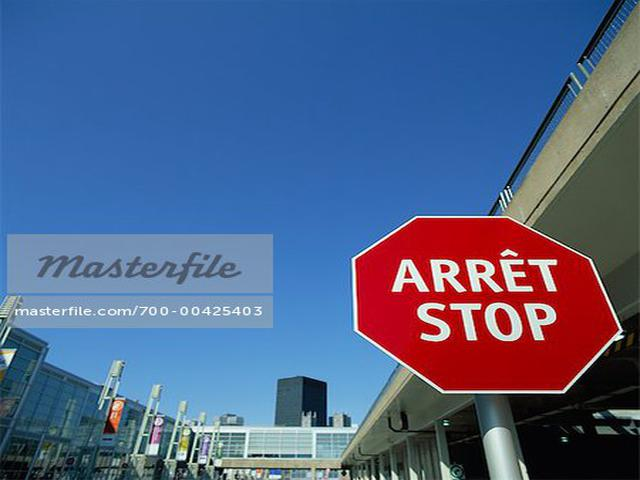stop: (347, 213, 629, 400)
